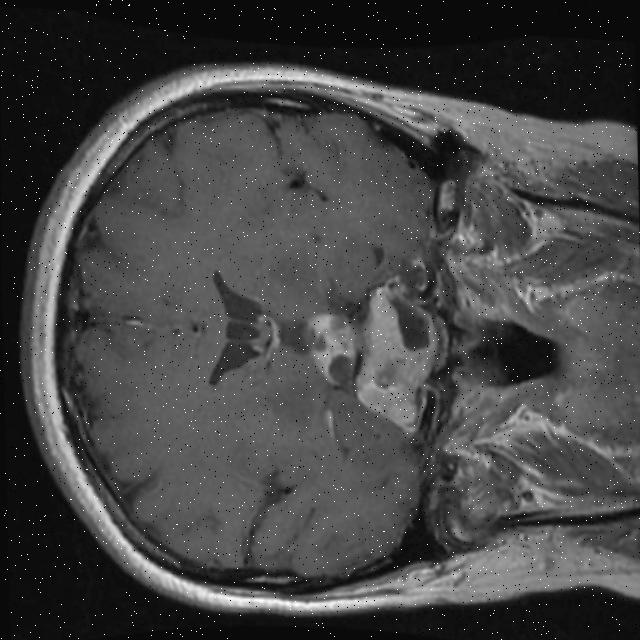Pituitary: (353, 281, 440, 436), (303, 310, 360, 387)
